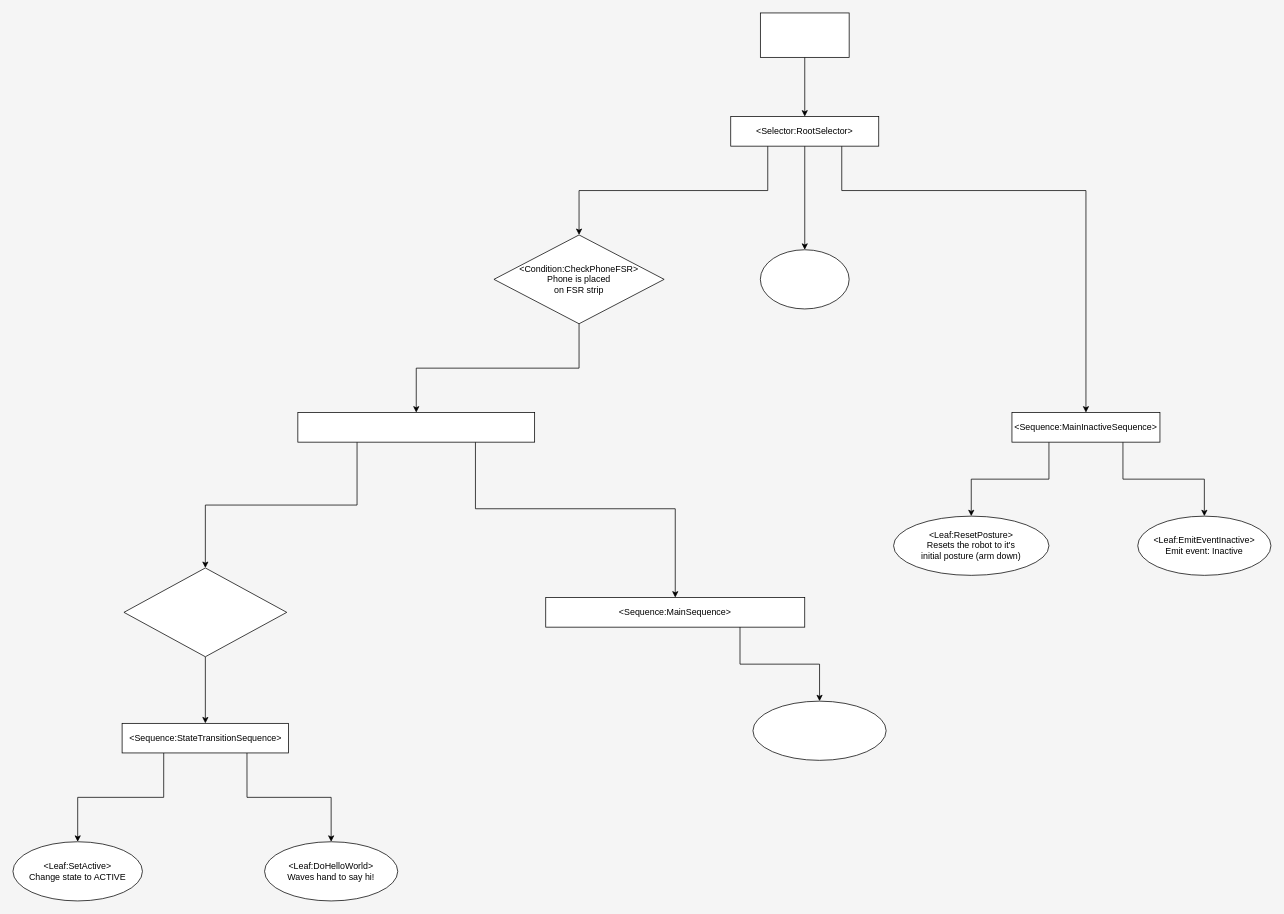
Image size: 1284x914. Some labels were removed from this diagram. Here are the shapes that lost their labels. From the top down, the centre of each, then its label:
At pixel 804 34: "<Sequence:Root>".
At pixel 804 279: "<Leaf:SetInactive> Return active status".
At pixel 416 427: "<Selector:InitializerSelector>".
At pixel 205 612: "<Condition:IsInactive> Returns true if Robot is INACTIVE".
At pixel 819 730: "<Leaf:LogEndOfSequence> Log end of sequence".
